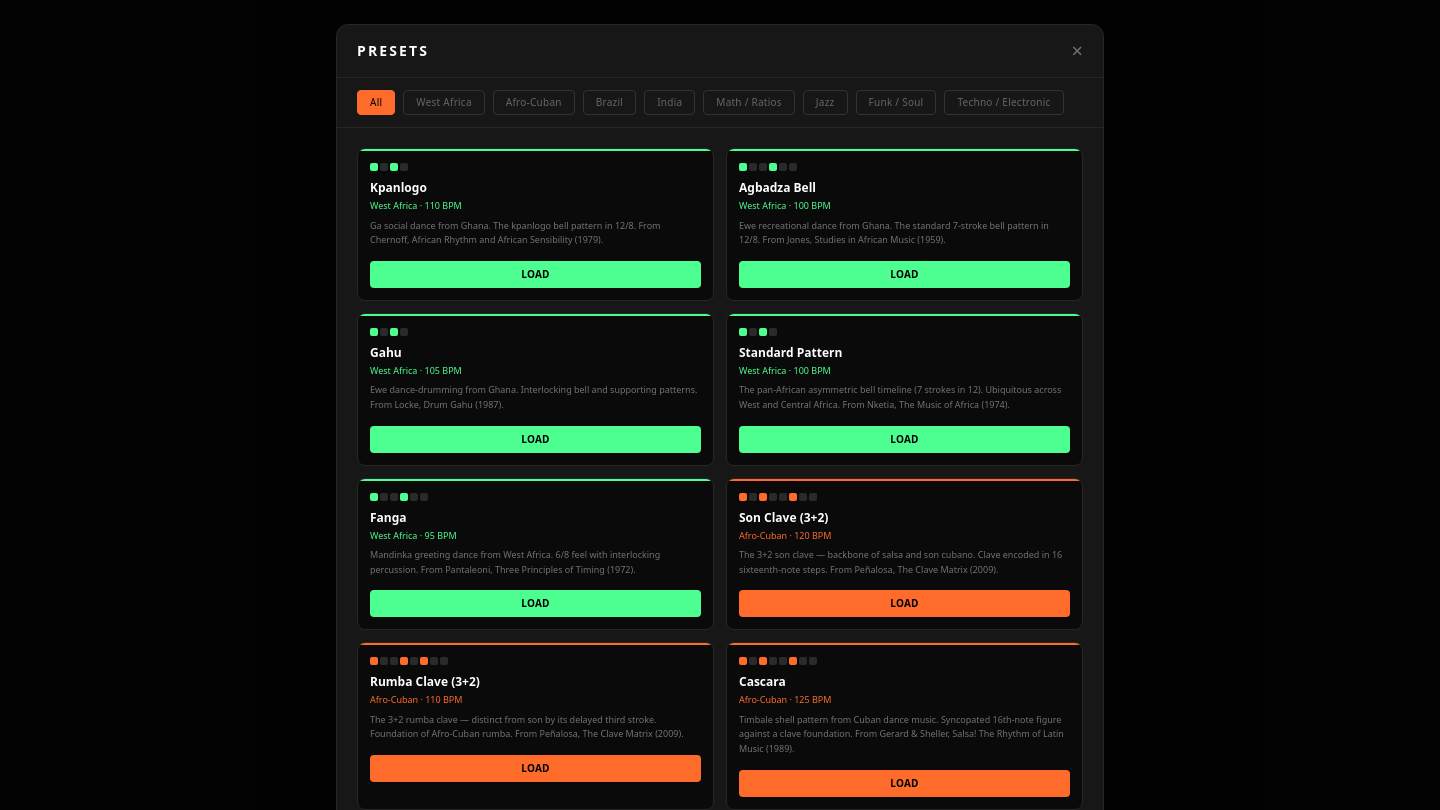
PresetModal › filters presets by category
Expected: the text "Son Clave (3+2)" is shown, [739,508,828,526]
Expected: the text "Kpanlogo" is shown, [370,179,427,196]
Click the button with aria-label "filter Afro-Cuban".
click(534, 102)  # box [493,90,575,115]
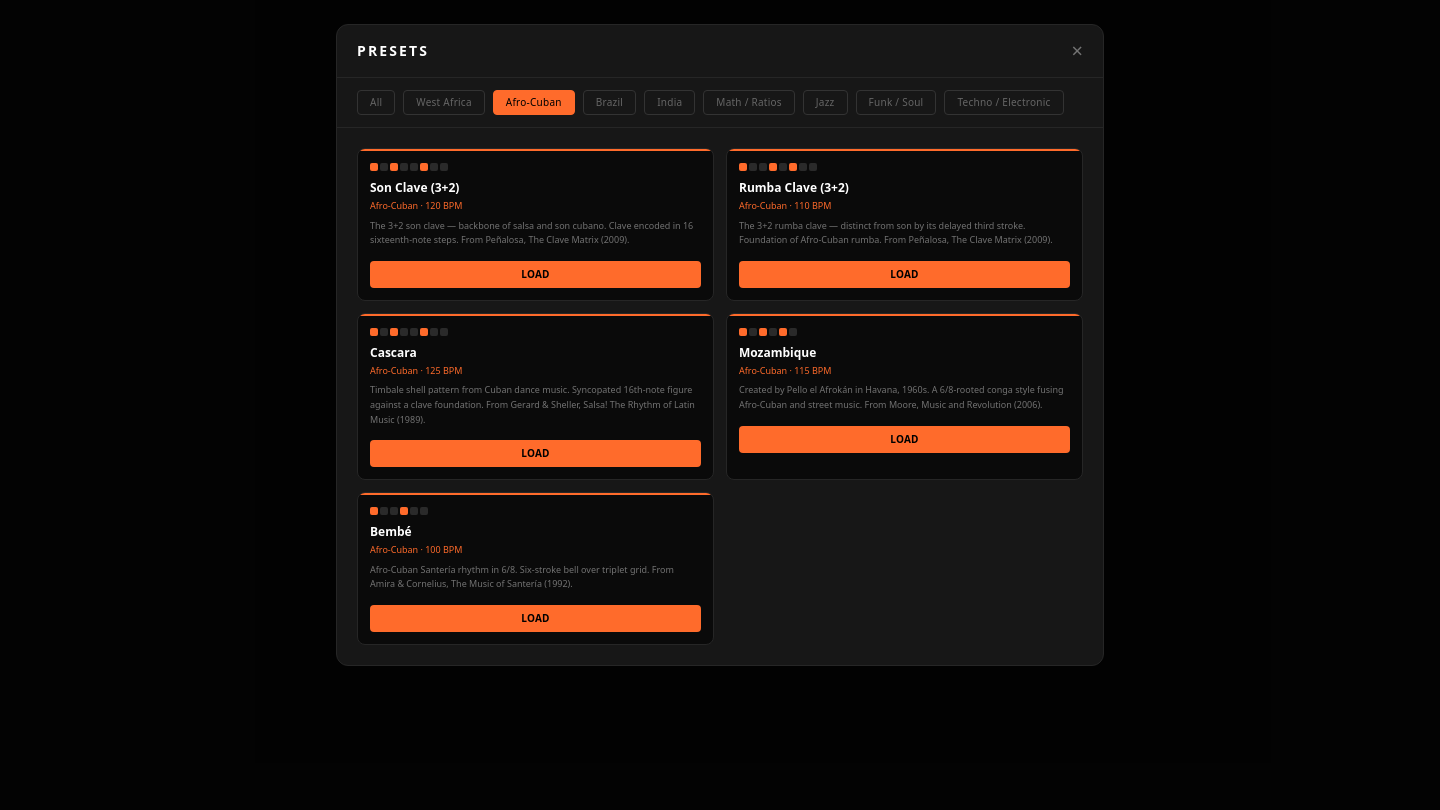
Expected: the text "Son Clave (3+2)" is shown, [370,179,459,196]
Now the text "Kpanlogo" is gone
